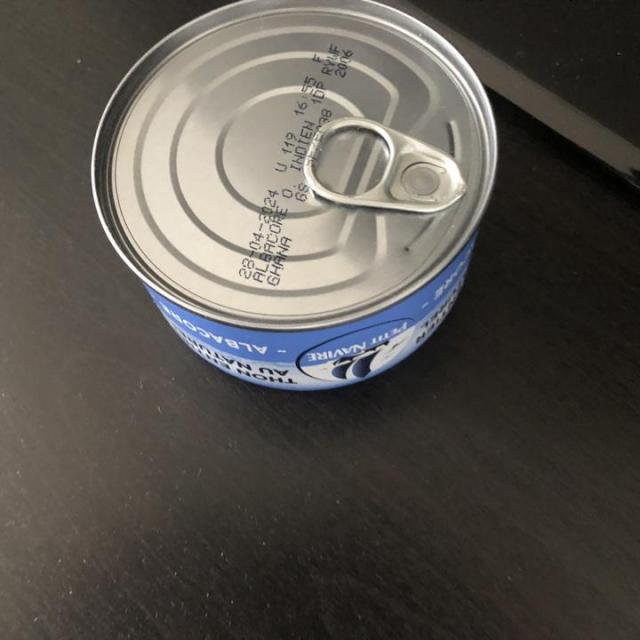metal-can: (88, 0, 501, 396)
